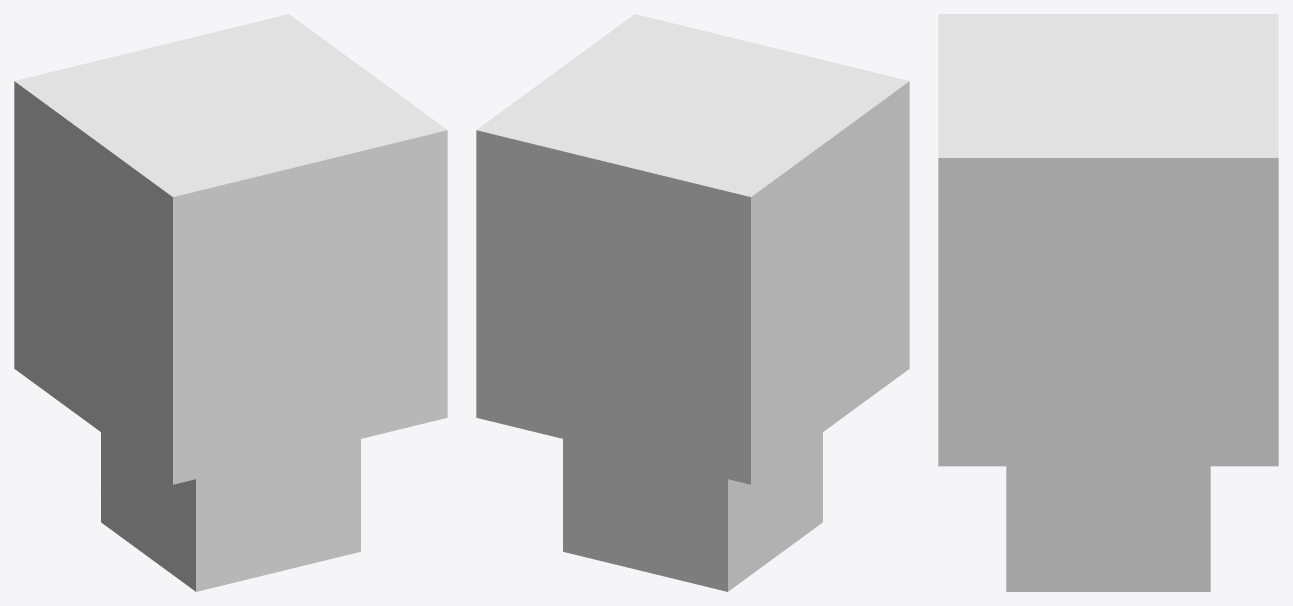
The picture shows the model from 3 angles, left to right: view 1: azimuth 30°, elevation 25°; view 2: azimuth 150°, elevation 25°; view 3: azimuth 270°, elevation 25°; orthographic projection. The views are drawn at different scales.
Bounding box in the file's own units: 10 × 15 × 10.
1 material, 1 textured.
